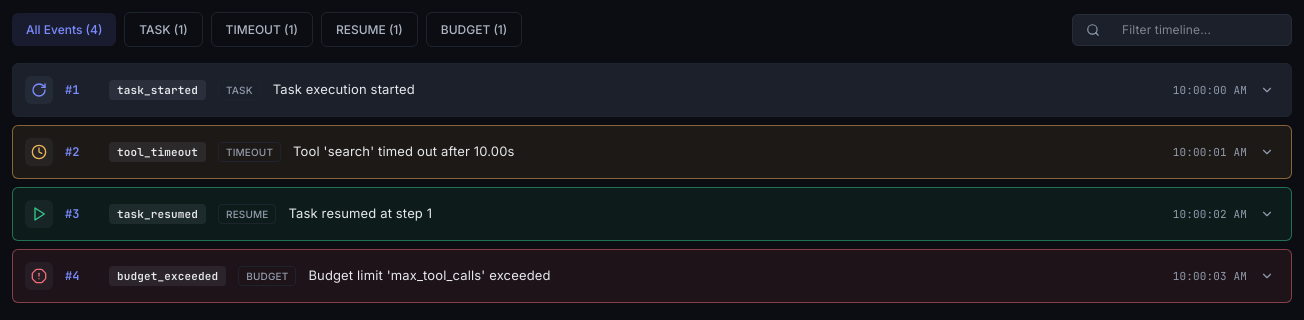
RecoveryTimeline Component › filters timeline events by category
This screenshot has width=1304, height=320.
Click the button "TIMEOUT (1)". click: (262, 30)
box: 211,12 -> 313,47
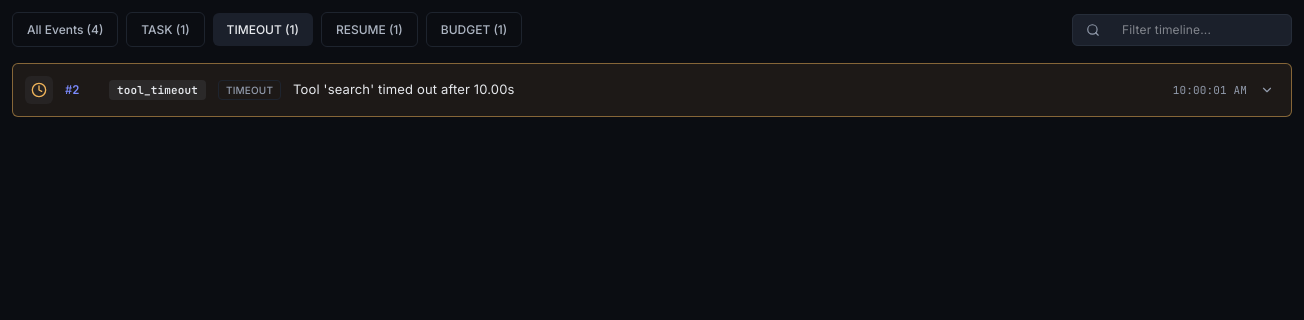
Expected: the text "Tool 'search' timed out after 10.00s" is shown, 293,80 -> 514,100
Expected: the text "Task execution started" is gone
